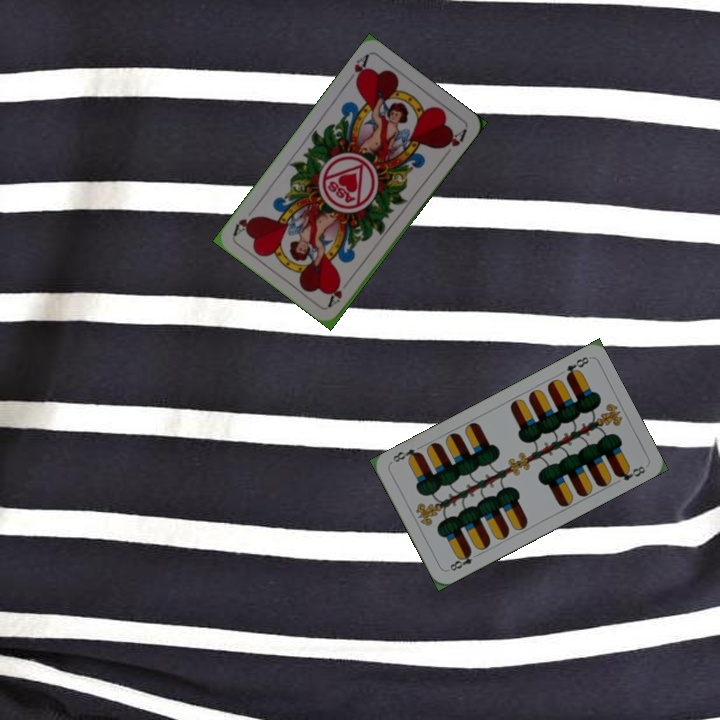E8: (554, 352, 591, 381), (446, 547, 482, 574)
HA: (324, 274, 354, 309), (342, 51, 371, 87)
